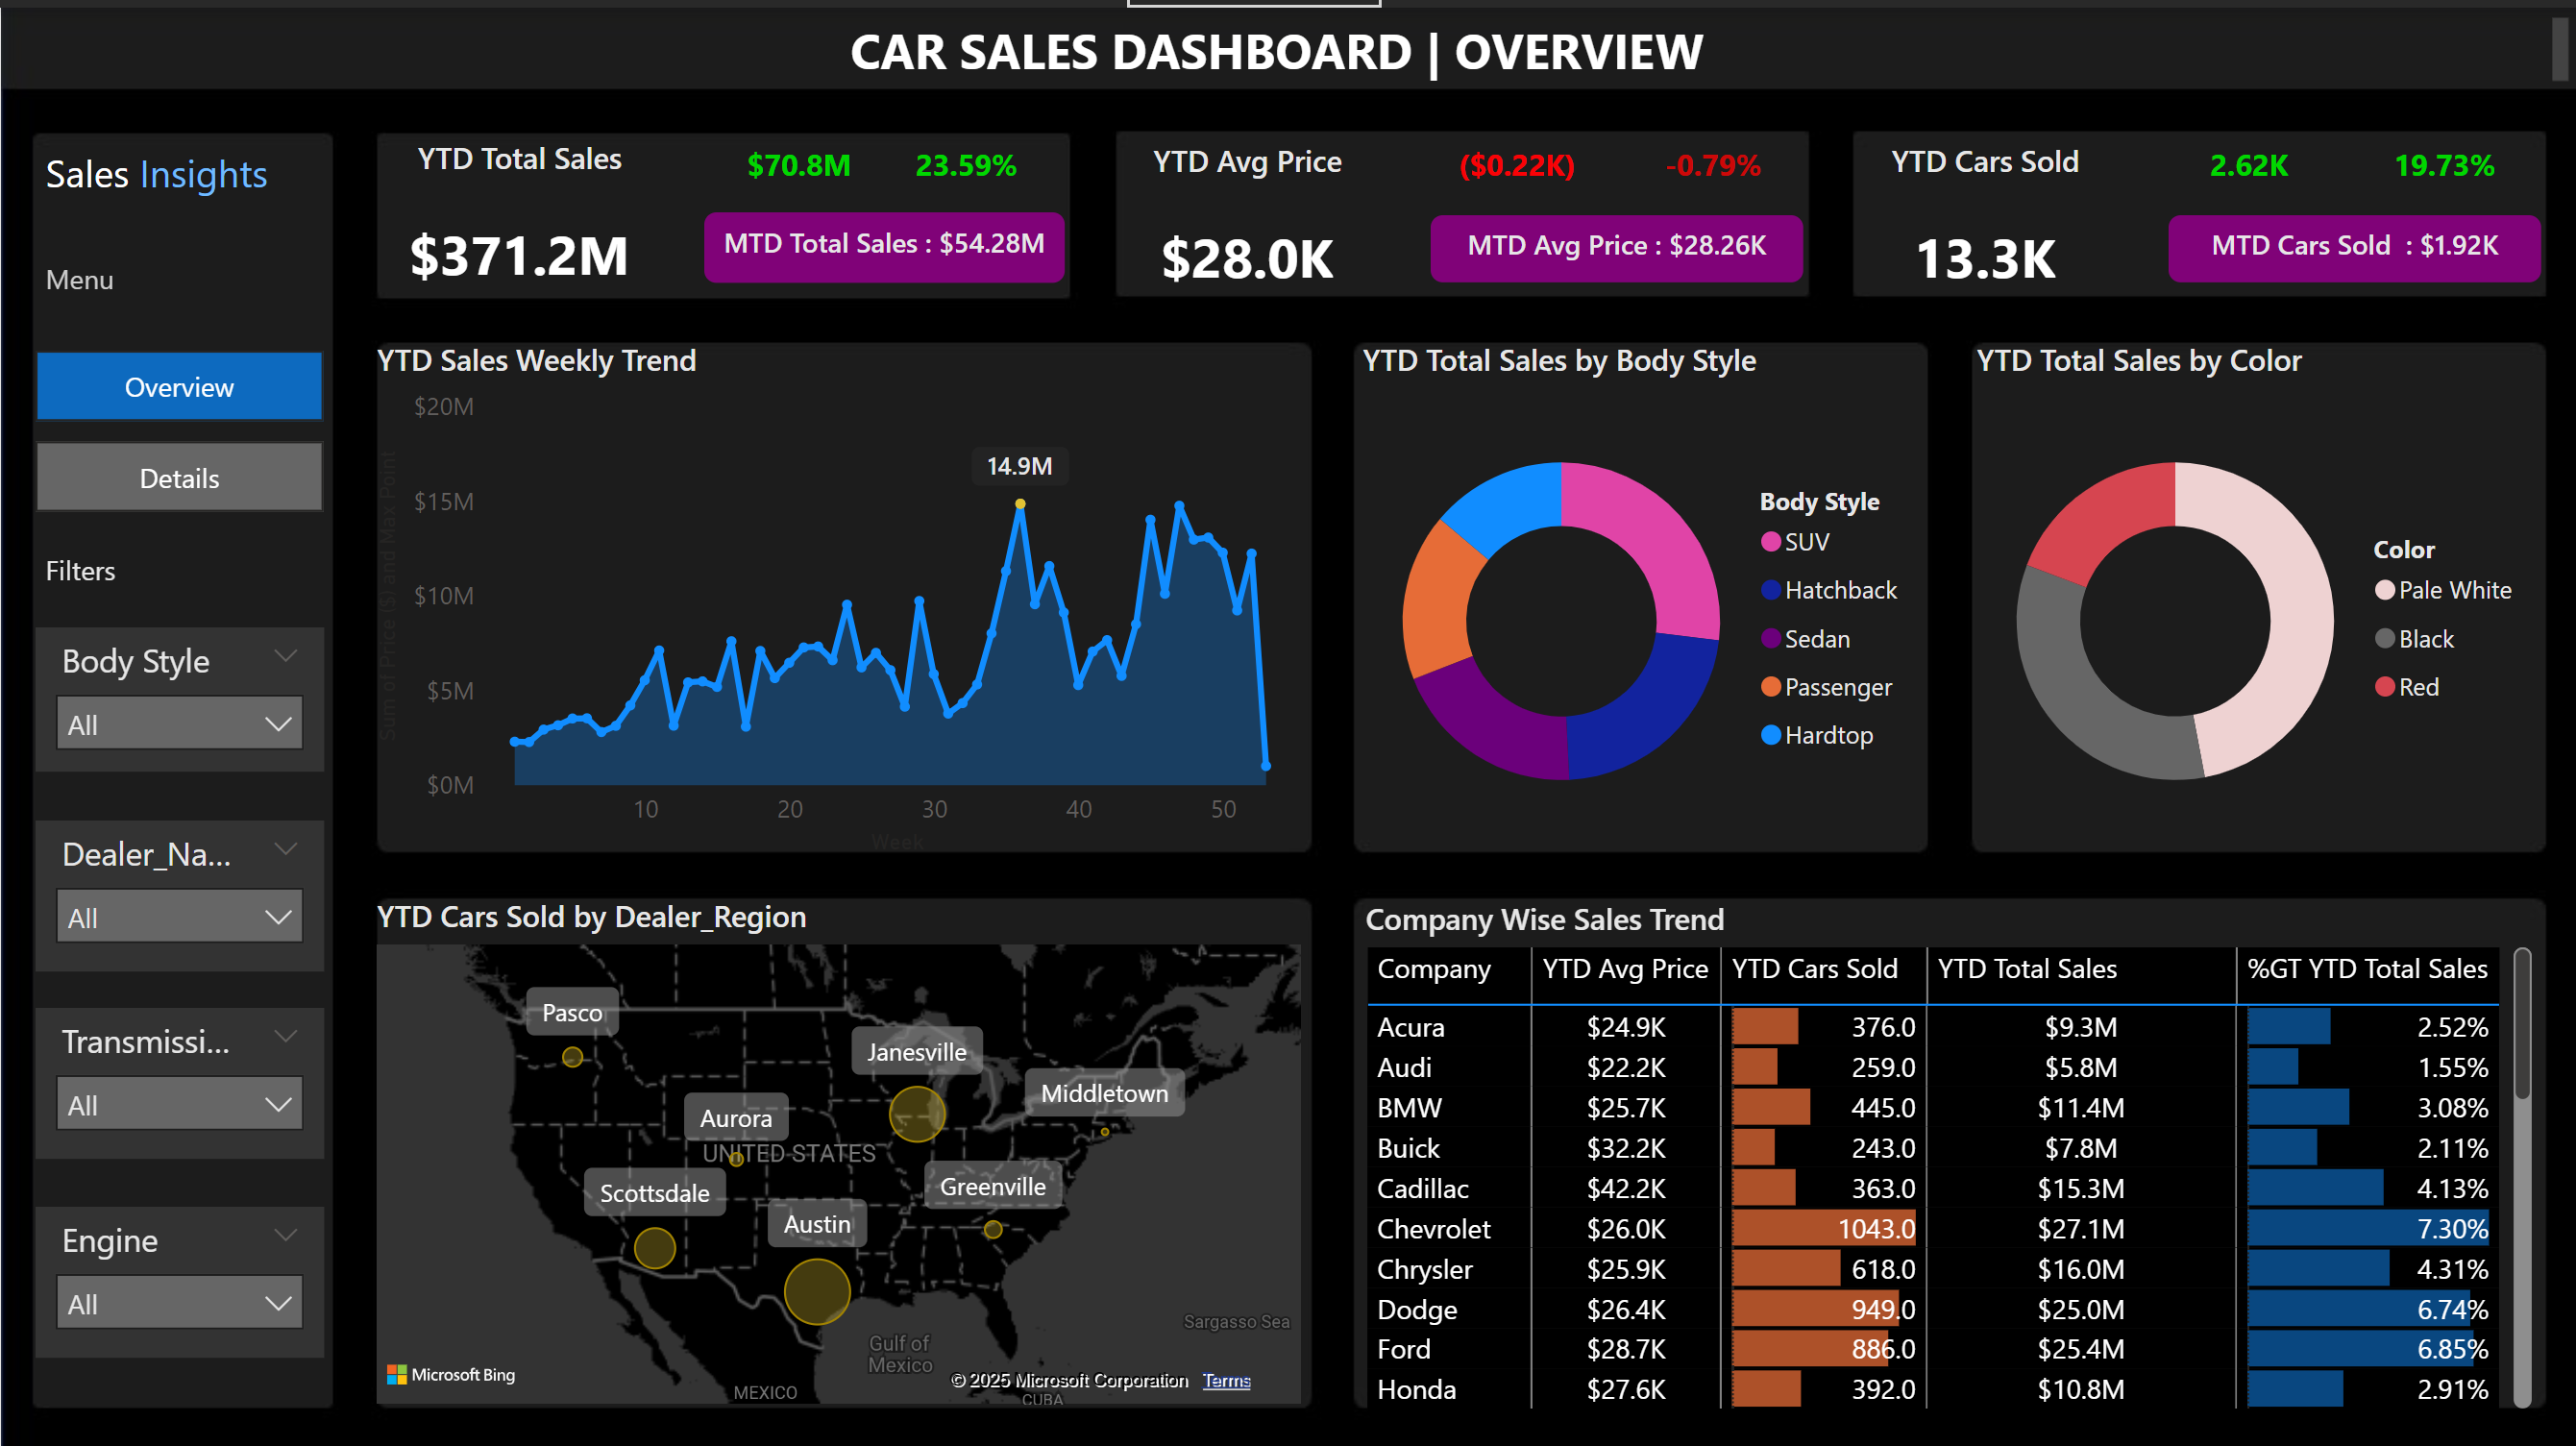

The page's visual inventory and layout, read from the dashboard file:
{"tool":"powerbi","page":{"name":"Overview","canvas":[1280,720],"ordinal":0},"visuals":[{"type":"cardVisual","title":"YTD Total Sales","fields":{"Data":["car_data.YTD Total Sales"]},"box":[182,64.5,151.7,89.1],"z":0},{"type":"cardVisual","fields":{"Data":["car_data.Sales Difference"]},"box":[315.5,42.5,163.8,60.7],"z":1000},{"type":"cardVisual","fields":{"Data":["car_data.YoY Sales Growth"]},"box":[397.3,42.5,163.8,60.7],"z":2000},{"type":"card","fields":{"Values":["car_data.MTD KPI"]},"box":[348.8,101.6,179,34.9],"z":3000},{"type":"cardVisual","title":"YTD Avg Price","fields":{"Data":["car_data.YTD Avg Price"]},"box":[527.8,65.2,182,75.8],"z":4000},{"type":"cardVisual","fields":{"Data":["car_data.Avg Price Diff"]},"box":[671.8,42.5,163.8,60.7],"z":5000},{"type":"cardVisual","fields":{"Data":["car_data.YoY Avg Price Growth"]},"box":[768.9,42.5,163.8,60.7],"z":6000},{"type":"card","fields":{"Values":["car_data.MTD Avg Price KPI"]},"box":[709.8,103.1,185,33.4],"z":7000},{"type":"cardVisual","title":"YTD Cars Sold","fields":{"Data":["car_data.YTD Cars Sold"]},"box":[894.8,65.2,182,75.8],"z":8000},{"type":"cardVisual","fields":{"Data":["car_data.Cars Sold Diff"]},"box":[1034.3,42.5,163.8,60.7],"z":9000},{"type":"cardVisual","fields":{"Data":["car_data.YoY Cars Sold Growth"]},"box":[1148.1,42.5,131.9,60.7],"z":10000},{"type":"card","fields":{"Values":["car_data.MTD Cars Sold KPI"]},"box":[1076.8,103.1,185,33.4],"z":11000},{"type":"areaChart","title":"YTD Sales Weekly Trend","fields":{"Category":["Calendar Table.Week"],"Y":["Sum(car_data.Price ($))","car_data.Max Point"]},"box":[182,165.3,468.6,260.9],"z":12000},{"type":"donutChart","fields":{"Category":["car_data.Body Style"],"Y":["car_data.YTD Total Sales"]},"box":[671.8,165.3,285.1,260.9],"z":13000},{"type":"donutChart","fields":{"Y":["car_data.YTD Total Sales"],"Category":["car_data.Color"]},"box":[976.7,165.3,285.1,260.9],"z":14000},{"type":"map","fields":{"Category":["car_data.Dealer_Region"],"Size":["car_data.YTD Cars Sold"]},"box":[182,441.3,468.6,257.8],"z":15000},{"type":"tableEx","title":"Company Wise Sales Trend","fields":{"Values":["car_data.Company","car_data.YTD Avg Price","car_data.YTD Cars Sold","car_data.YTD Total Sales1","car_data.YTD Total Sales"]},"box":[672.7,441.8,589.1,258.2],"z":16000},{"type":"textbox","box":[0,0,1280,41.8],"z":17000},{"type":"slicer","fields":{"Values":["car_data.Dealer_Name"]},"box":[16.7,403.3,143.3,75],"z":18000},{"type":"slicer","fields":{"Values":["car_data.Body Style"]},"box":[16.7,308.3,143.3,71.7],"z":19000},{"type":"slicer","fields":{"Values":["car_data.Transmission"]},"box":[16.7,496.7,143.3,75],"z":20000},{"type":"slicer","fields":{"Values":["car_data.Engine"]},"box":[16.7,595,143.3,75],"z":21000},{"type":"textbox","box":[16.7,265,165,30],"z":22000},{"type":"textbox","box":[16.7,65,143.3,43.3],"z":22001},{"type":"textbox","box":[16.7,120,118.3,33.3],"z":22002},{"type":"pageNavigator","box":[16.7,170,143.3,81.7],"z":22003}]}

Visuals, with their boxes on the page's 1280x720 design canvas (x1, y1, x2, y2). These are canvas units, not pixel positions in the 2576x1446 screenshot, which may show the page scaled, cropped or inside an application window:
"YTD Total Sales" cardVisual: [182,64,334,154]
cardVisual - car_data.Sales Difference: [316,42,479,103]
cardVisual - car_data.YoY Sales Growth: [397,42,561,103]
card - car_data.MTD KPI: [349,102,528,136]
"YTD Avg Price" cardVisual: [528,65,710,141]
cardVisual - car_data.Avg Price Diff: [672,42,836,103]
cardVisual - car_data.YoY Avg Price Growth: [769,42,933,103]
card - car_data.MTD Avg Price KPI: [710,103,895,136]
"YTD Cars Sold" cardVisual: [895,65,1077,141]
cardVisual - car_data.Cars Sold Diff: [1034,42,1198,103]
cardVisual - car_data.YoY Cars Sold Growth: [1148,42,1280,103]
card - car_data.MTD Cars Sold KPI: [1077,103,1262,136]
"YTD Sales Weekly Trend" areaChart: [182,165,651,426]
donutChart - car_data.Body Style x car_data.YTD Total Sales: [672,165,957,426]
donutChart - car_data.YTD Total Sales x car_data.Color: [977,165,1262,426]
map - car_data.Dealer_Region x car_data.YTD Cars Sold: [182,441,651,699]
"Company Wise Sales Trend" tableEx: [673,442,1262,700]
textbox: [0,0,1280,42]
slicer - car_data.Dealer_Name: [17,403,160,478]
slicer - car_data.Body Style: [17,308,160,380]
slicer - car_data.Transmission: [17,497,160,572]
slicer - car_data.Engine: [17,595,160,670]
textbox: [17,265,182,295]
textbox: [17,65,160,108]
textbox: [17,120,135,153]
pageNavigator: [17,170,160,252]
